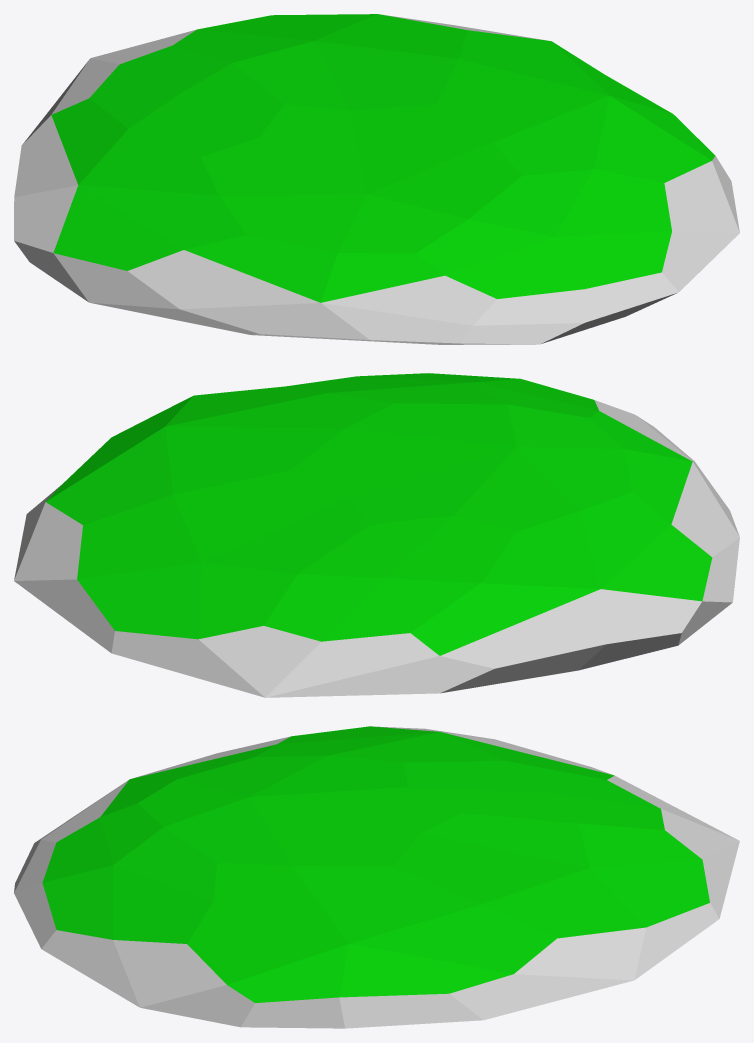
File: ak_rock_grassy_platform01.fbx
3 views of the same model, one above another, from view 1: azimuth 30°, elevation 25°; view 2: azimuth 150°, elevation 25°; view 3: azimuth 270°, elevation 25° (orthographic). The views are drawn at different scales.
Visible parts, largest first — view 1: Rock; view 2: Rock; view 3: Rock.
Boxes of the visible parts, box(x1,y1,x2,y2) form: Rock: box(14, 14, 739, 344); Rock: box(14, 373, 739, 697); Rock: box(14, 726, 739, 1028).
Size of the model in its own units: 809 by 150 by 872.
